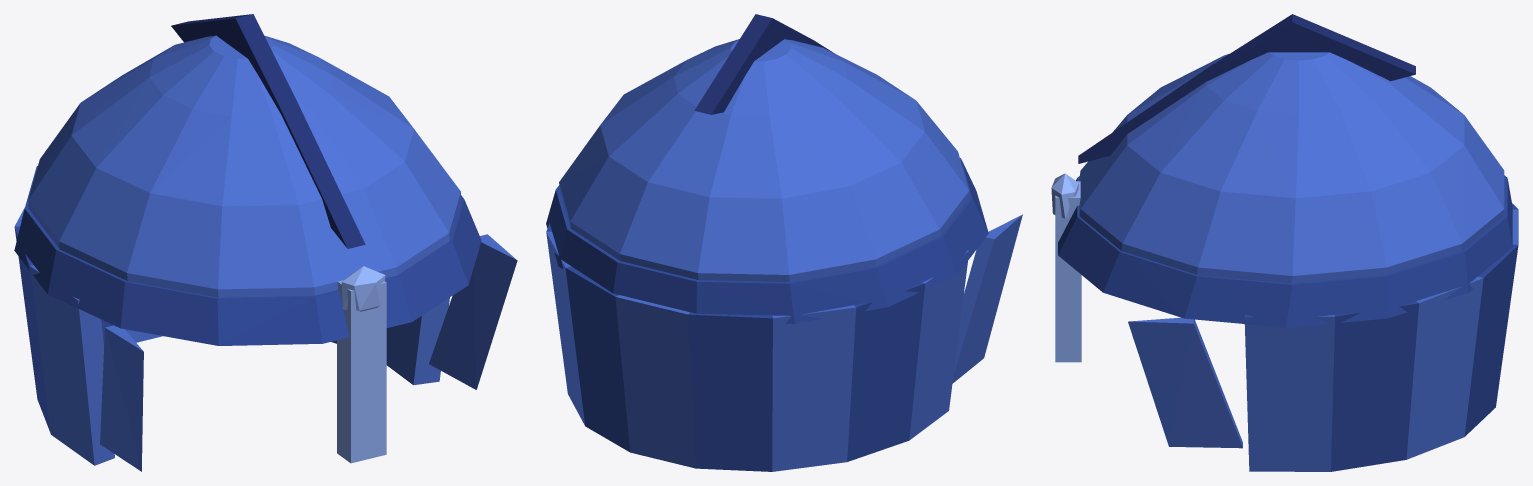
File: drop_mithril_helm.glb
3 views of the same model, side by side, from view 1: azimuth 30°, elevation 25°; view 2: azimuth 150°, elevation 25°; view 3: azimuth 270°, elevation 25° (orthographic). The views are drawn at different scales.
Visible parts, largest first — view 1: drop_mithril_helm; view 2: drop_mithril_helm; view 3: drop_mithril_helm.
Part boxes in pixels (x1,y1,x2,y2): drop_mithril_helm: (14,14,517,471); drop_mithril_helm: (546,14,1022,471); drop_mithril_helm: (1051,14,1518,471).
Bounding box in the file's own units: 0.268 × 0.25 × 0.2836.
